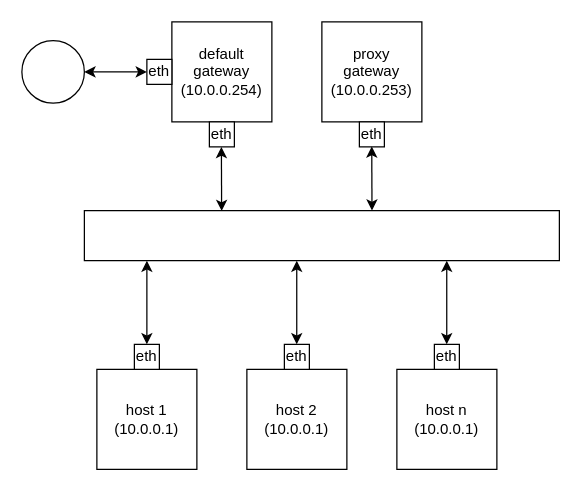
This 581x491 diagram has some shape labels left out. The centre of each missing label's shape, as x and y in pixels:
"ISP" goes at pixel 52 71.
"switch support openflow" goes at pixel 321 235.
